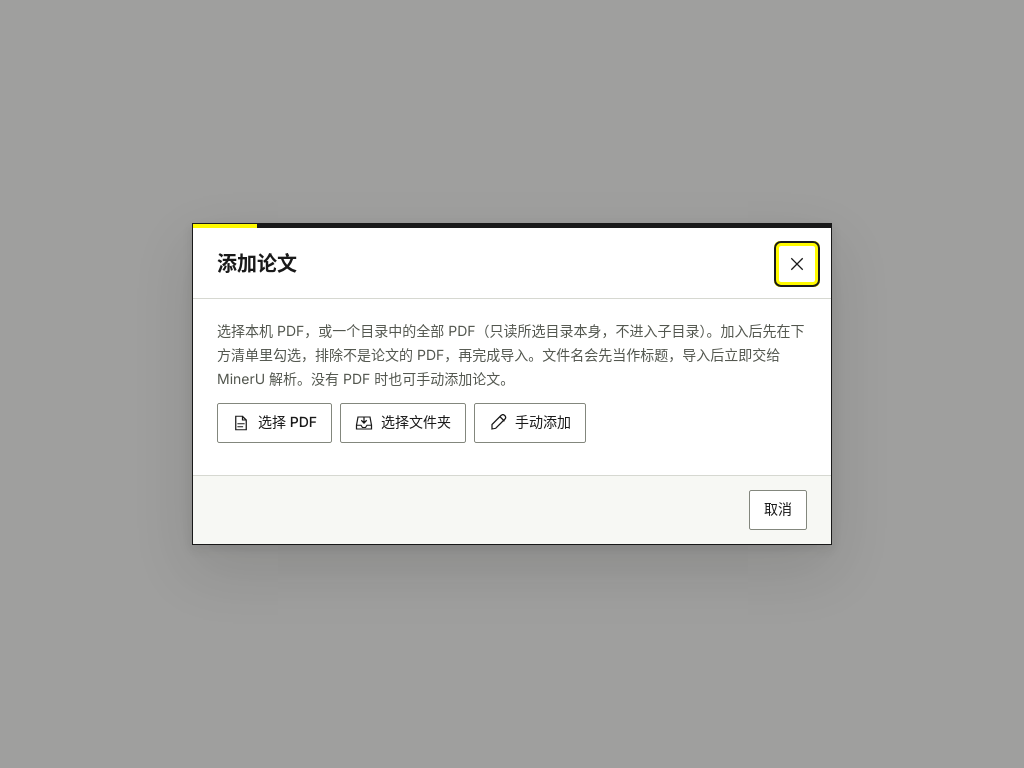
Scenario: PaperDialog · 单篇导入 › 全部重复时不显示导入按钮
Click the button "选择 PDF" at (275, 423), box [217, 403, 332, 443]
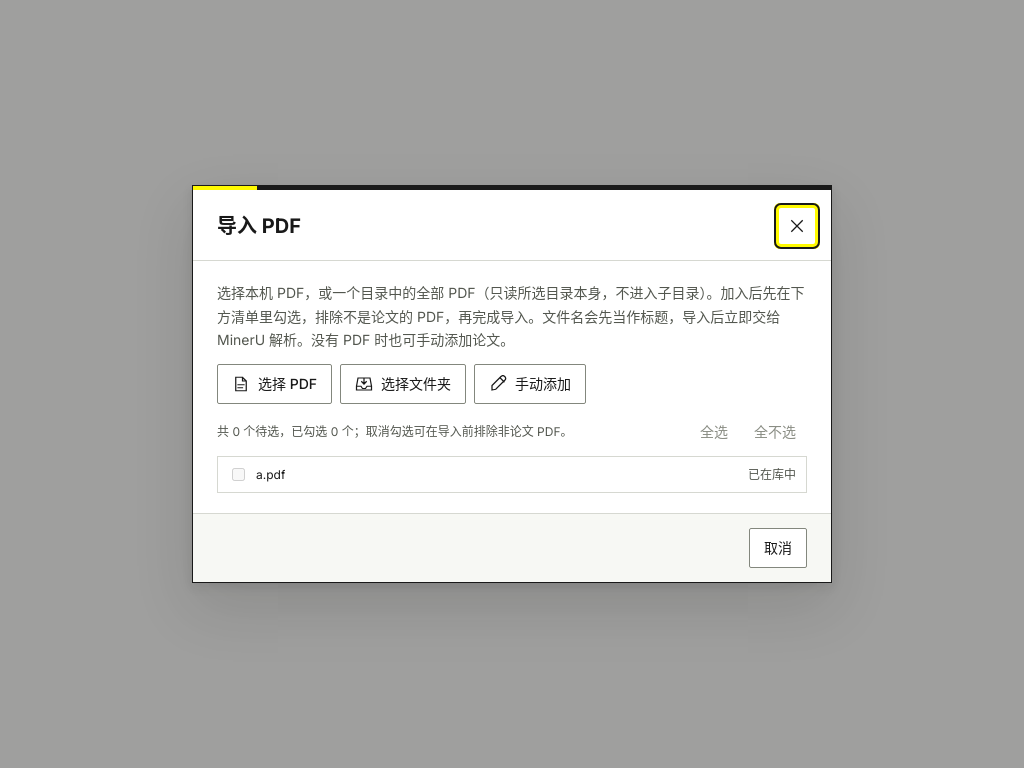
Now the text "a.pdf" is shown, box [256, 466, 285, 484]
